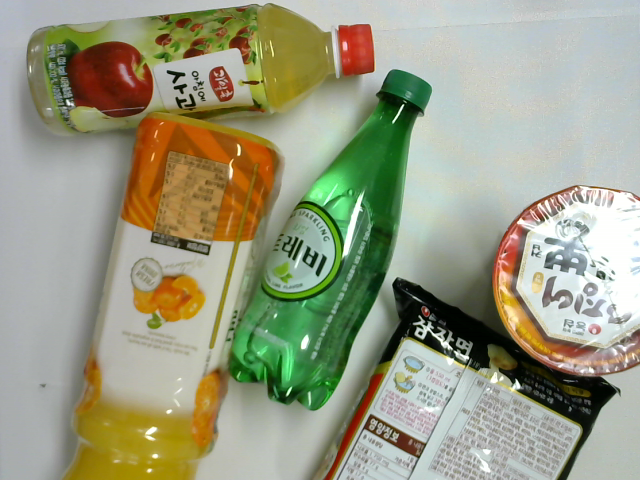Jeju_Tangerine_1.5L: (58, 111, 287, 480)
Morning_Apple_500ml: (25, 1, 375, 137)
Ojjam: (489, 184, 640, 377)
Potato: (319, 273, 623, 480)
Treviraim_500ml: (225, 67, 433, 411)
